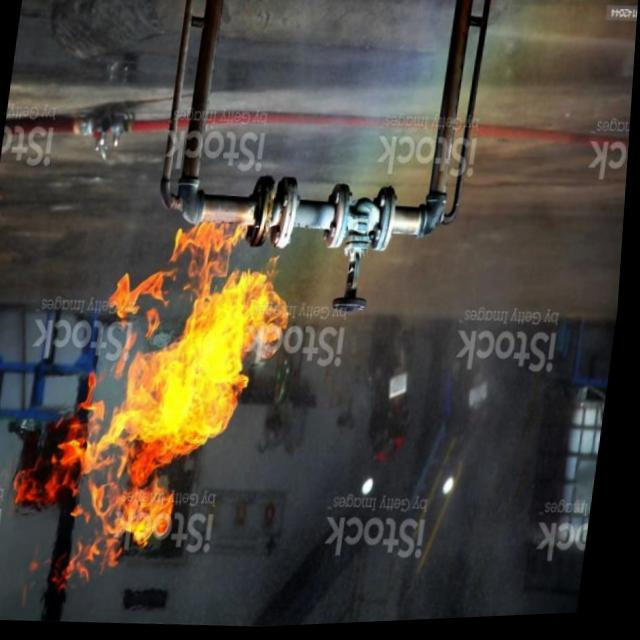leak: (69, 224, 288, 575)
